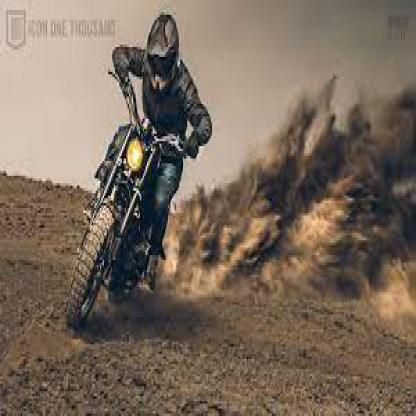bike: (63, 13, 214, 335)
